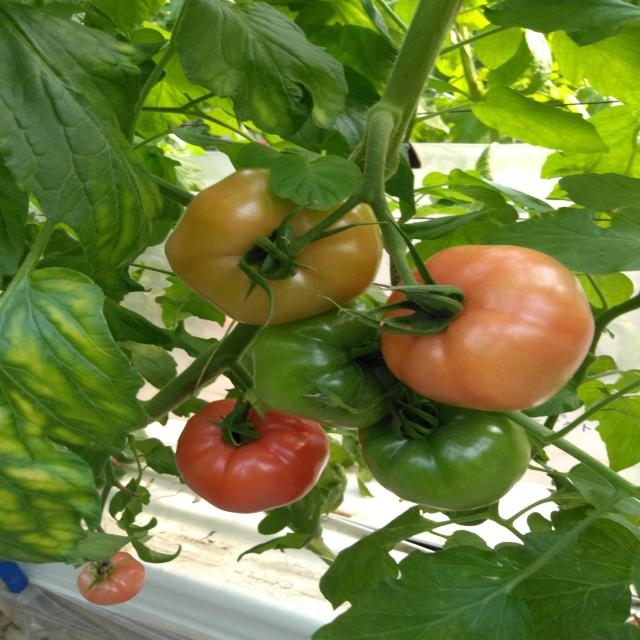n-half-riped: (380, 244, 595, 411), (162, 168, 384, 327), (77, 551, 146, 605)
n-riped: (174, 399, 329, 514)
n-unriped: (251, 294, 410, 428), (358, 397, 532, 511)
